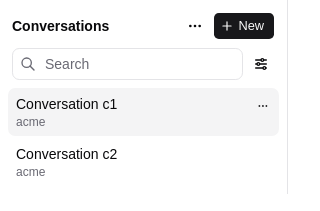
Scenario: filters and list › shows a hit found by its title without a snippet, the title marked
Type "overdue" into the search field named "Search conversations".
click(128, 64); type("overdue")  # box top-left (12, 48), bottom-right (243, 80)
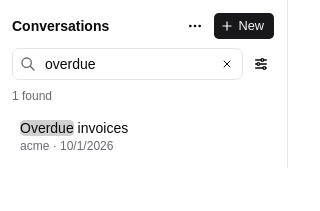
Expected: the number of list items is 1, top-left (12, 112), bottom-right (275, 160)
